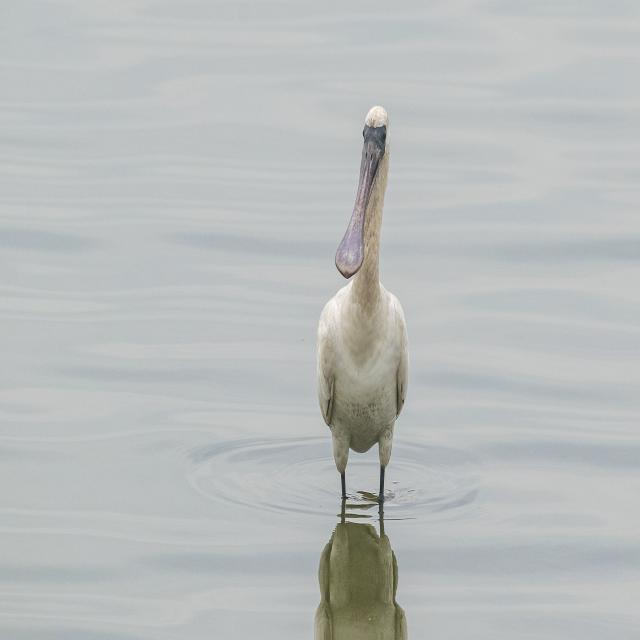Black-faced spoonbill: (318, 107, 407, 500)
